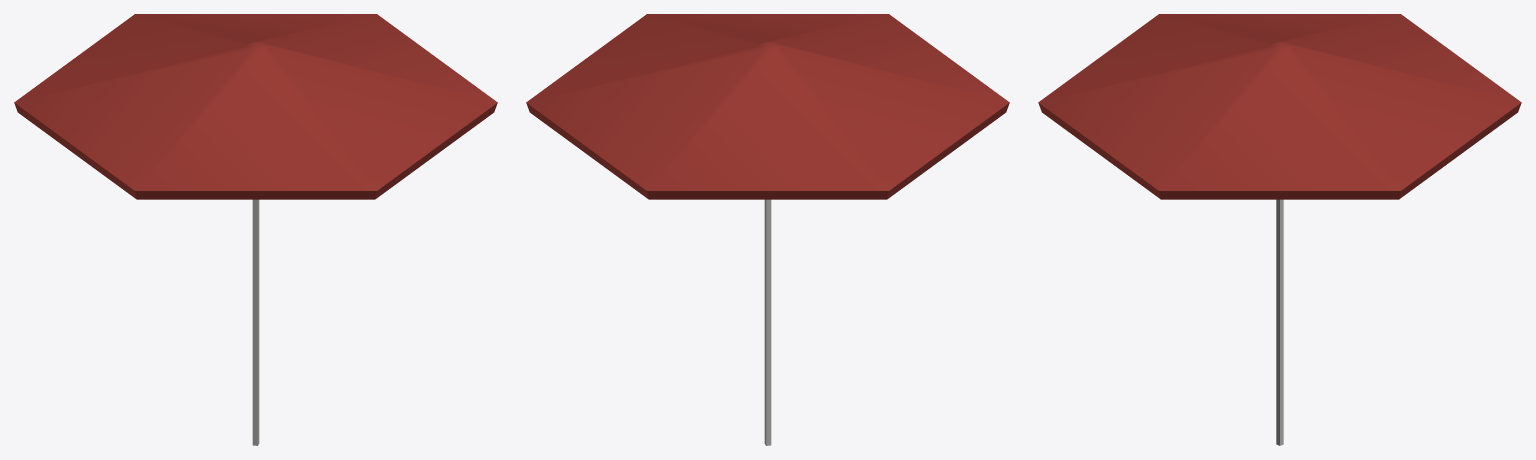
Rendered from SM_Prop_cafe_parasol_2_LOD2.glb.
3 views of the same model, side by side, from view 1: azimuth 30°, elevation 25°; view 2: azimuth 150°, elevation 25°; view 3: azimuth 270°, elevation 25° (orthographic).
Parts seen in each view (by area): view 1: SM_Prop_cafe_parasol_2_LOD2; view 2: SM_Prop_cafe_parasol_2_LOD2; view 3: SM_Prop_cafe_parasol_2_LOD2.
Boxes of the visible parts, bbox=[...] form: SM_Prop_cafe_parasol_2_LOD2: bbox=[14, 14, 497, 445]; SM_Prop_cafe_parasol_2_LOD2: bbox=[526, 14, 1009, 445]; SM_Prop_cafe_parasol_2_LOD2: bbox=[1038, 14, 1521, 445].
Size of the model in its own units: 2.29 by 2.42 by 2.64.
